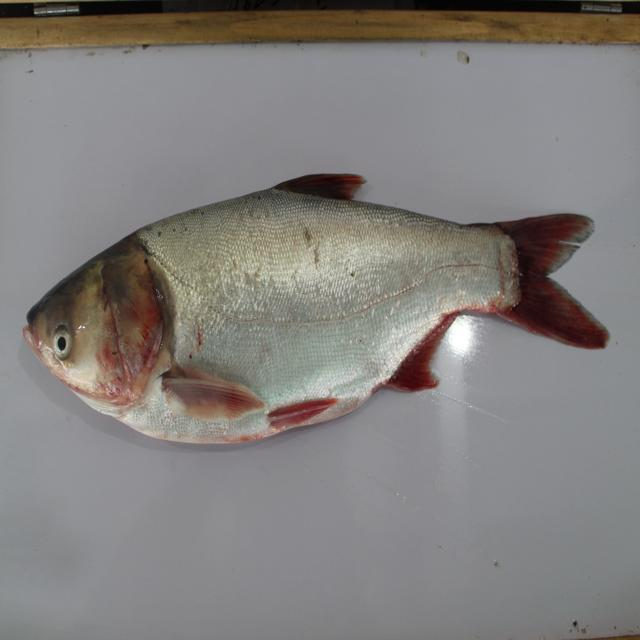SilverCarp: (32, 169, 610, 442)
